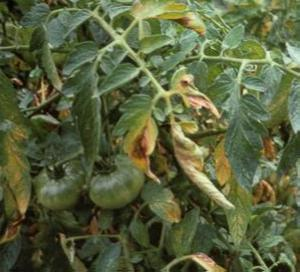Tomato Early blight leaf: (167, 117, 237, 209), (0, 122, 34, 242), (122, 92, 161, 182), (134, 0, 213, 38), (170, 71, 228, 118), (29, 21, 64, 93)
Tomato leaf: (66, 69, 104, 172), (224, 94, 263, 189), (289, 79, 300, 135)
